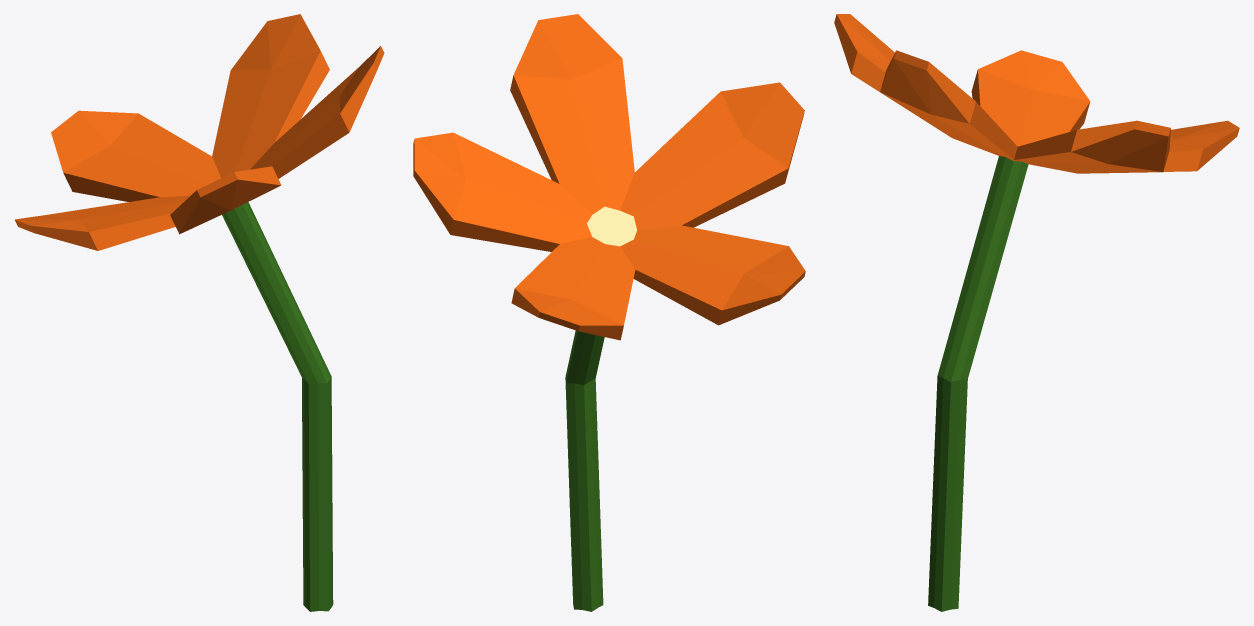
Rendered from Daisy_flower.fbx.
The picture shows the model from 3 angles, left to right: view 1: azimuth 30°, elevation 25°; view 2: azimuth 150°, elevation 25°; view 3: azimuth 270°, elevation 25°; orthographic projection. The views are drawn at different scales.
Parts seen in each view (by area): view 1: Daisy_flower.002; view 2: Daisy_flower.002; view 3: Daisy_flower.002.
Boxes of the visible parts, x1,y1,x2,y2 form: Daisy_flower.002: (14,14,384,611); Daisy_flower.002: (413,14,805,611); Daisy_flower.002: (834,14,1239,611).
Size of the model in its own units: 10.62 by 17.09 by 10.99.
